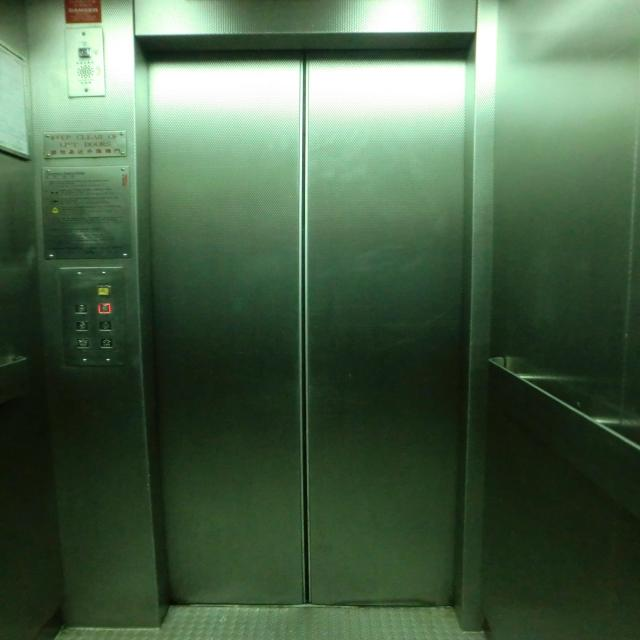2: (74, 303, 87, 314)
G: (75, 320, 88, 331)
S: (97, 303, 111, 314)
alarm: (95, 284, 110, 297)
blur: (98, 320, 112, 331)
close: (77, 338, 89, 348)
keyhole: (77, 46, 91, 58)
open: (98, 337, 114, 349)
